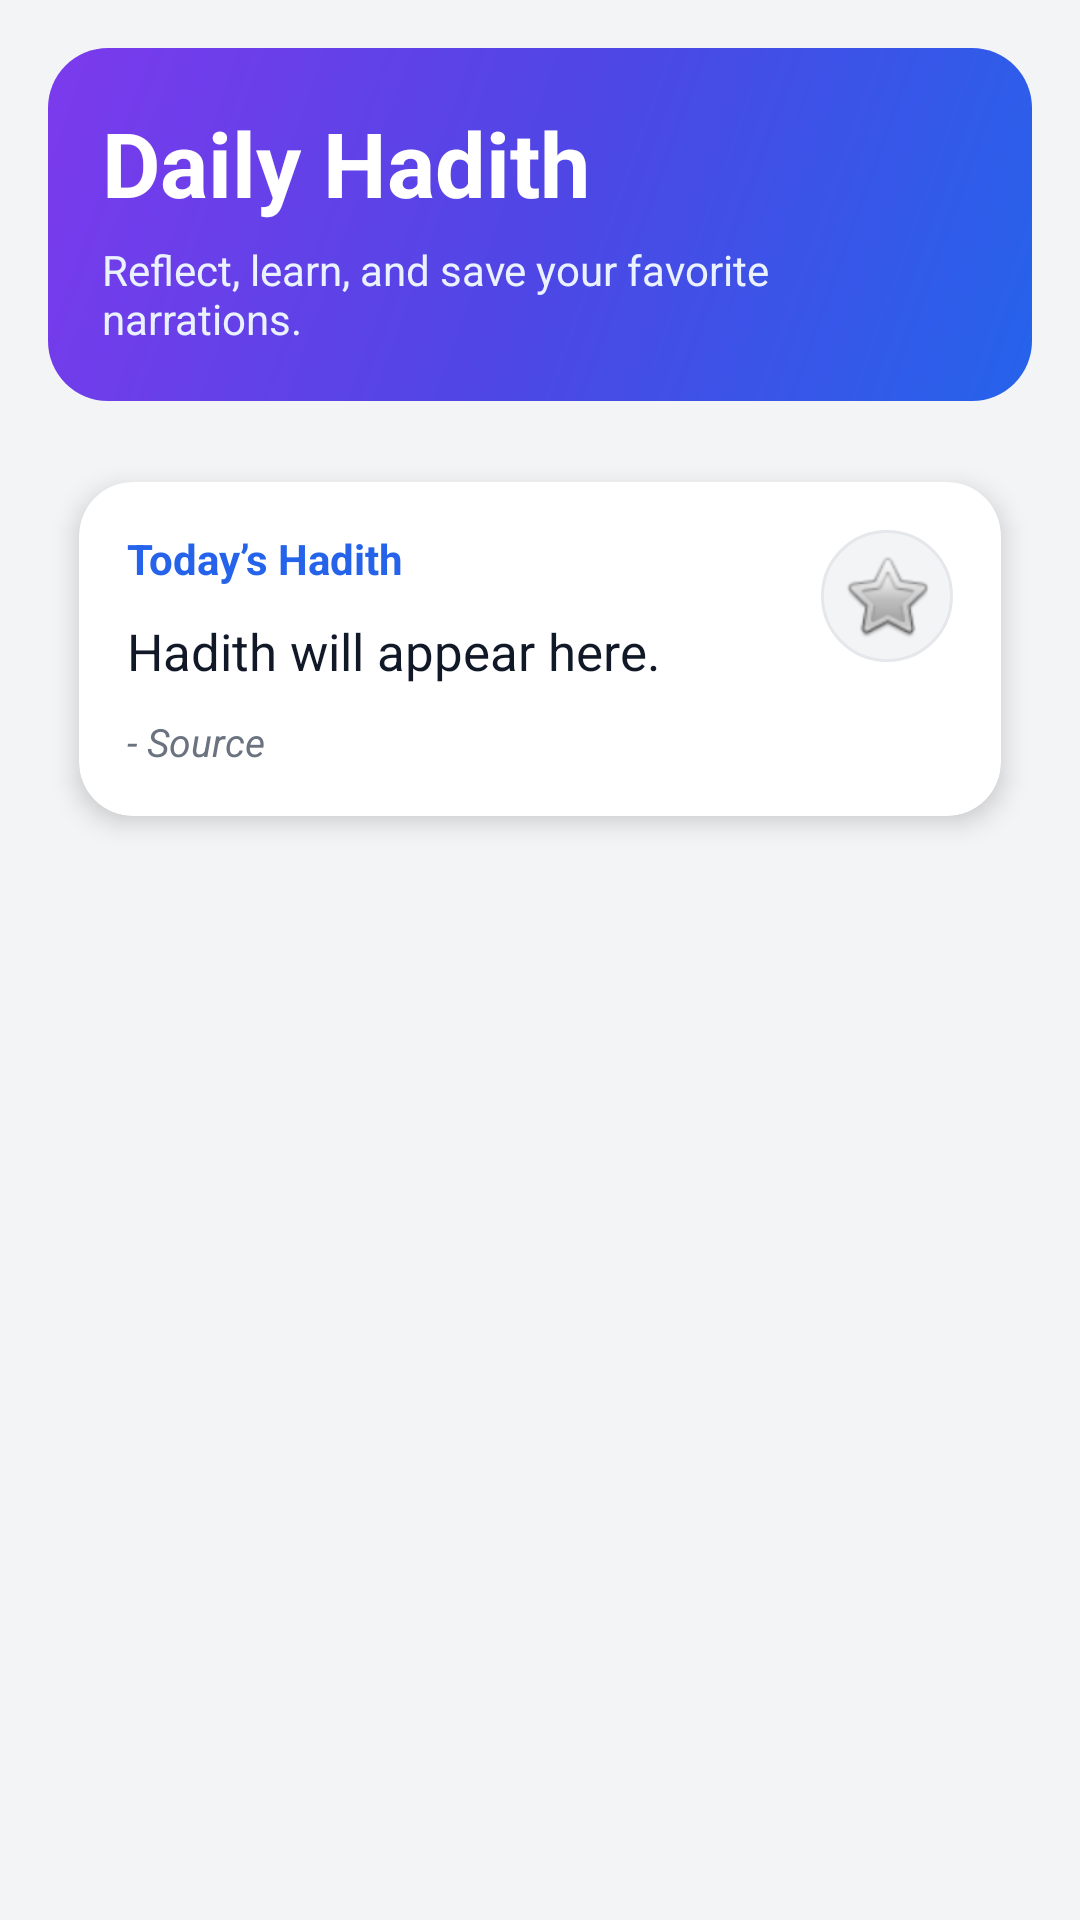

Named icons in this screenshot (1080*1920) and their bounding boxes, (x1, y1, x2, y2):
star off: (821, 530, 953, 662)
